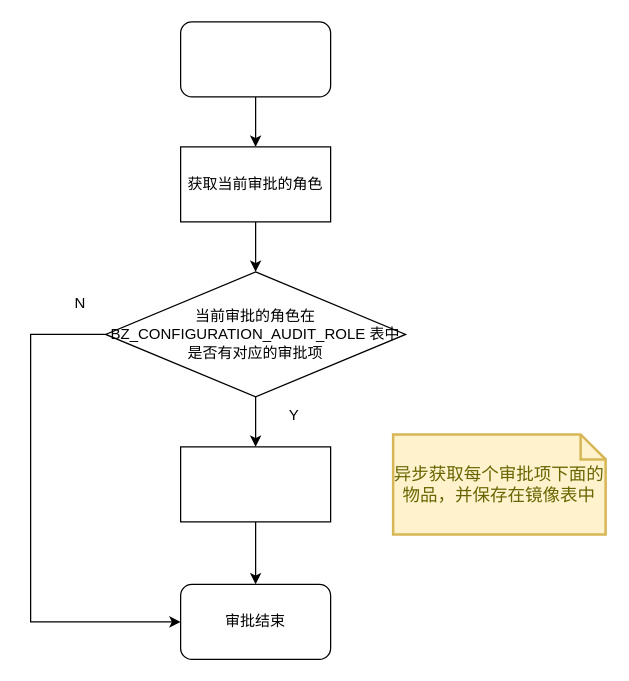
This 629x681 diagram has some shape labels left out. Here are the shapes that lost their labels. From the top down, the box of each, then its label:
(179, 21, 331, 97): 点击审核
(179, 446, 331, 522): 保存审批镜像
